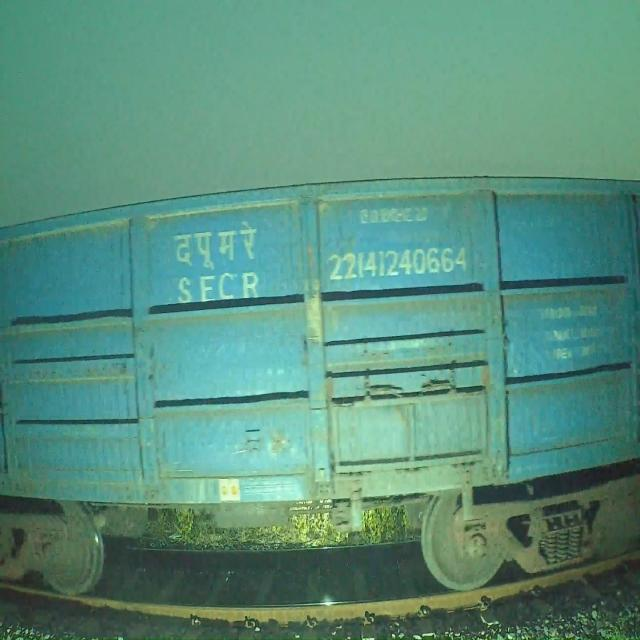WAgon-uic: (0, 168, 640, 602)
uic: (322, 240, 472, 288)
